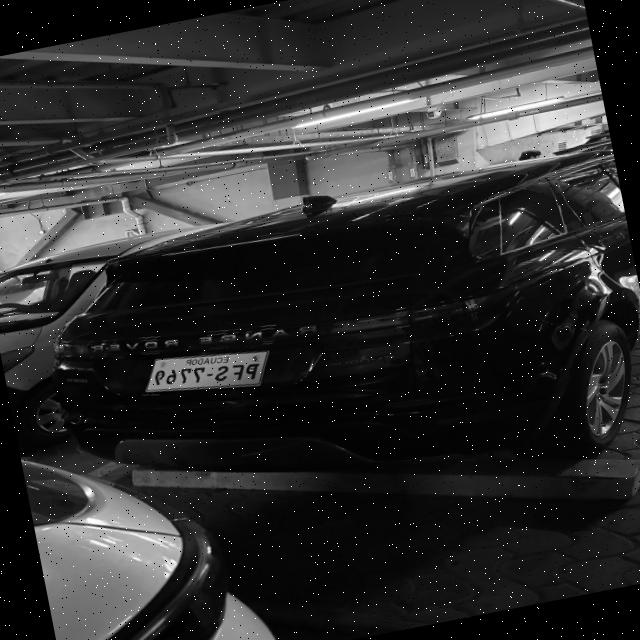Placa: (146, 352, 267, 392)
